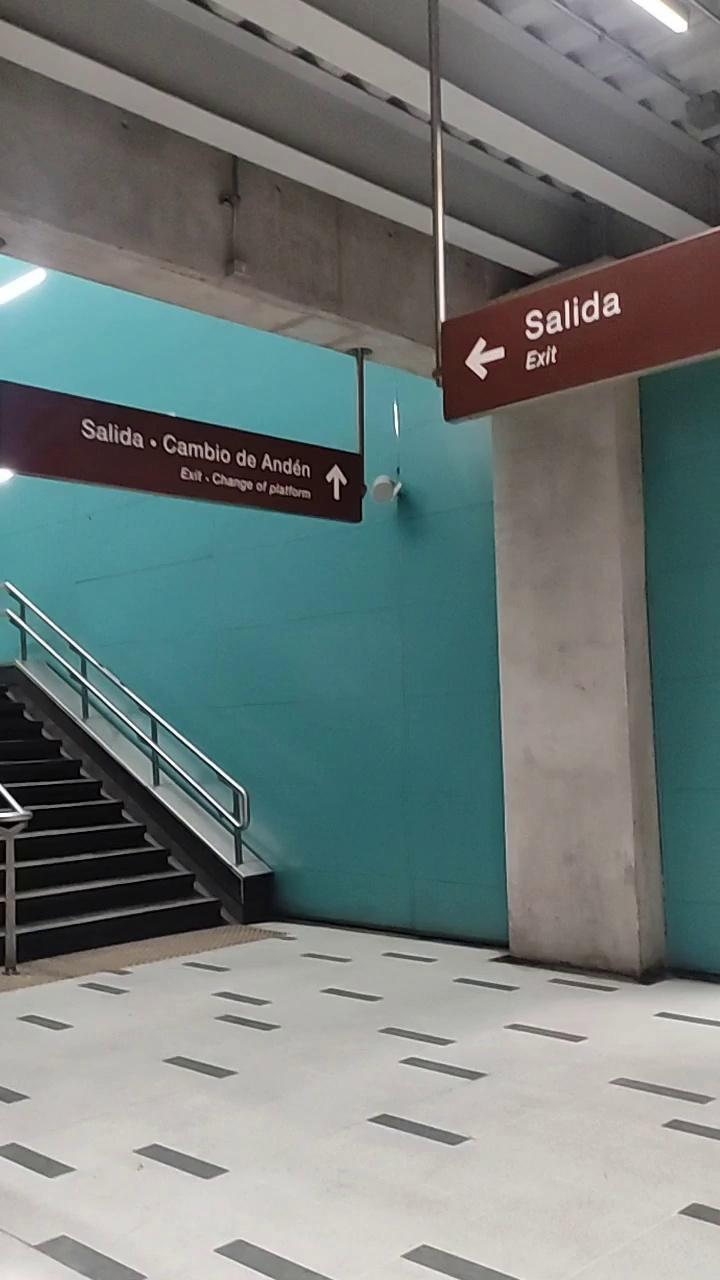left arrow: (459, 332, 512, 395)
up arrow: (317, 458, 352, 516)
